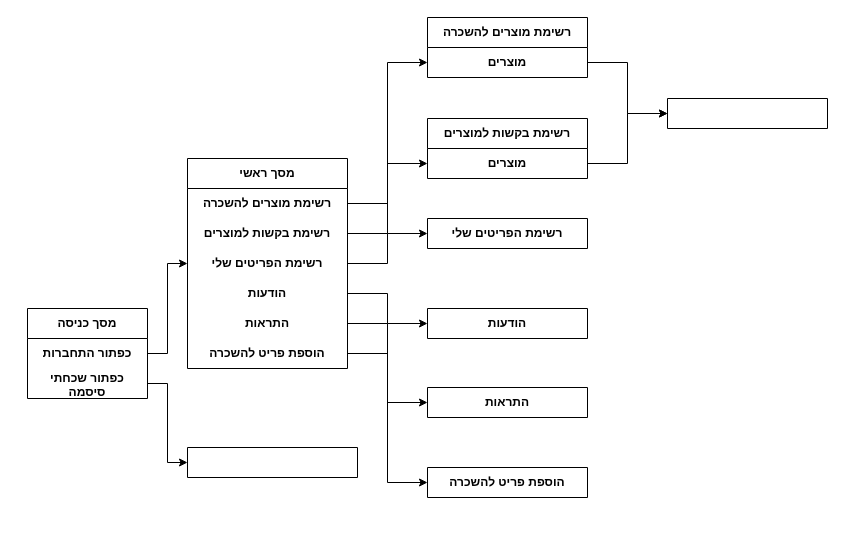
Some shapes in this 855 by 545 pixel diagram are drawn without their labels. Here are the shapes that lost their labels. From the top down, the centre of each, then its label:
At [747,113]: "השכרת מוצרים".
At [272,462]: "מסך החלפת נתוני משתמש".
